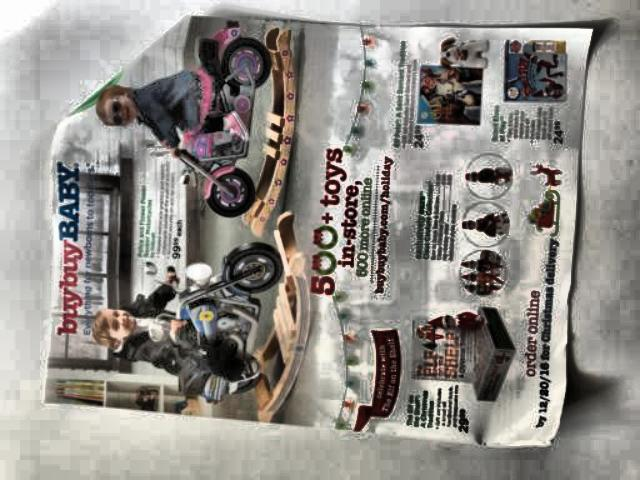Paper: (29, 2, 617, 462)
